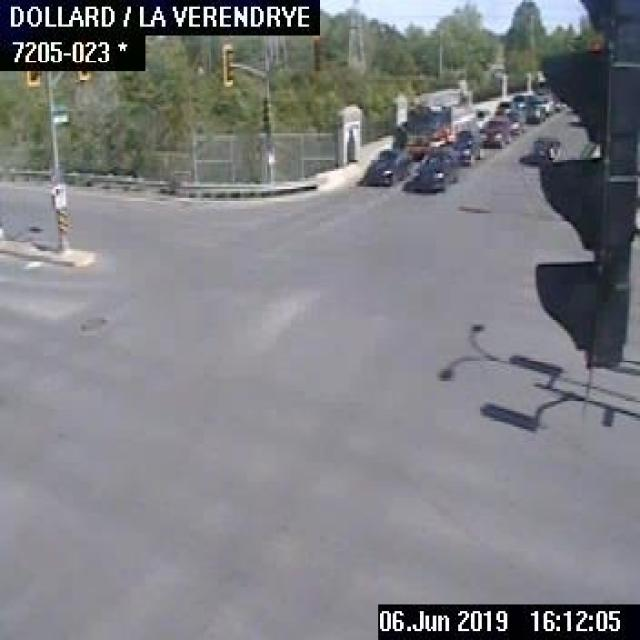vehicle: (394, 97, 484, 147), (405, 147, 455, 194), (360, 147, 408, 185), (445, 127, 482, 165), (480, 113, 514, 149), (527, 129, 560, 160), (526, 103, 545, 124), (493, 100, 513, 116)
